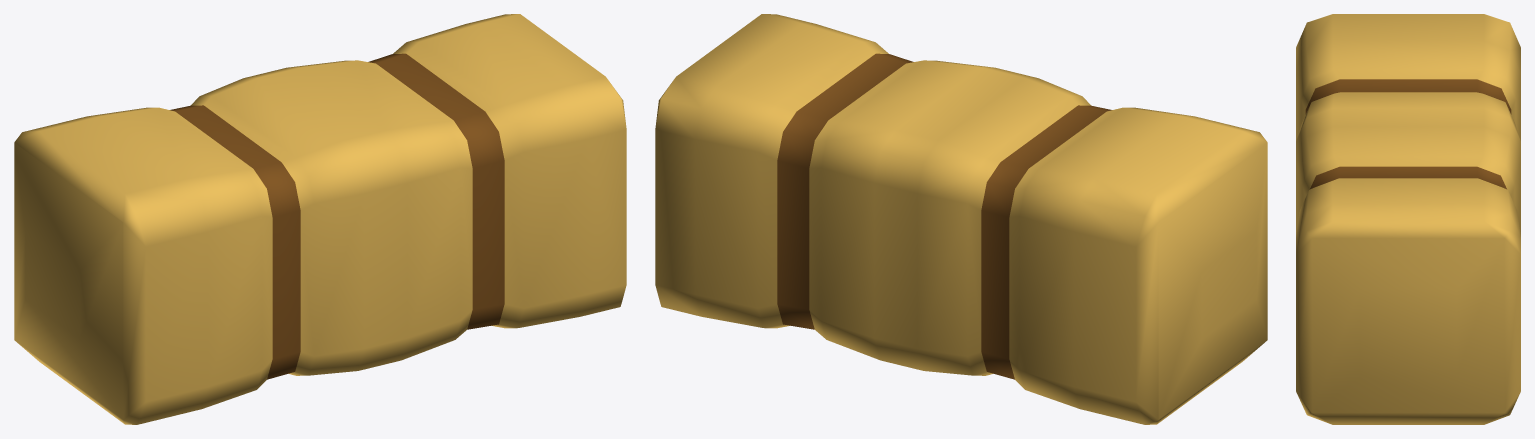
Rendered from hay.fbx.
3 views of the same model, side by side, from view 1: azimuth 30°, elevation 25°; view 2: azimuth 150°, elevation 25°; view 3: azimuth 270°, elevation 25° (orthographic). The views are drawn at different scales.
Parts seen in each view (by area): view 1: pCube1; view 2: pCube1; view 3: pCube1.
Part boxes in pixels (bbox=[...]): pCube1: bbox=[14, 14, 626, 424]; pCube1: bbox=[655, 14, 1267, 424]; pCube1: bbox=[1296, 14, 1520, 424].
Bounding box in the file's own units: 1.21 × 0.5 × 0.5.
